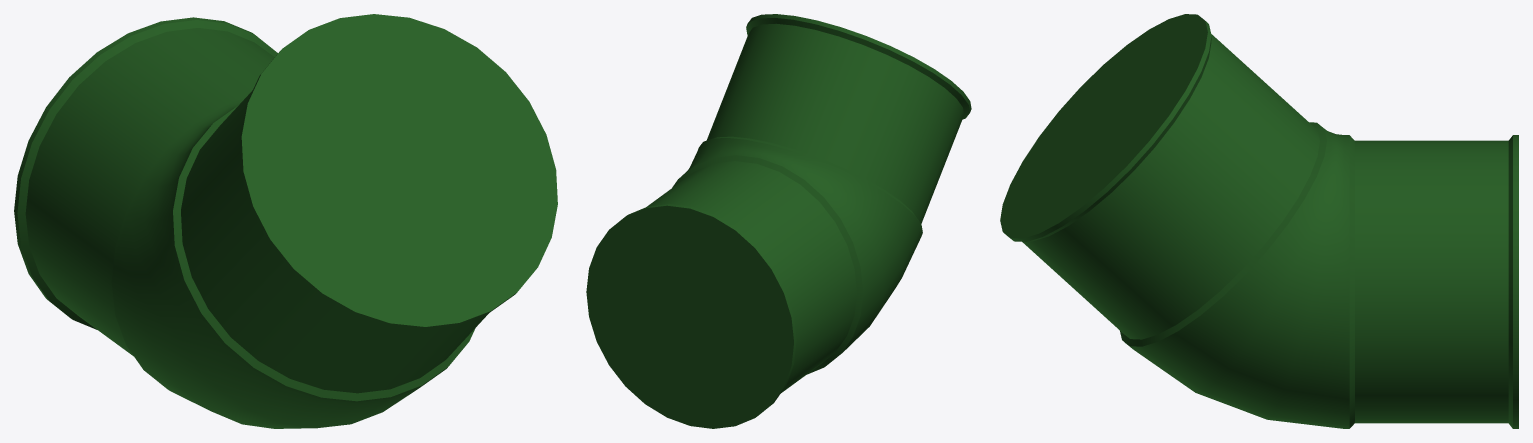
File: Pipe_45-Degree_16cm.fbx
3 renders of one model, left to right at view 1: azimuth 30°, elevation 25°; view 2: azimuth 150°, elevation 25°; view 3: azimuth 270°, elevation 25°, orthographic. The views are drawn at different scales.
Parts seen in each view (by area): view 1: Pipe_45-Degree_16cm; view 2: Pipe_45-Degree_16cm; view 3: Pipe_45-Degree_16cm.
Part boxes in pixels (x1,y1,x2,y2): Pipe_45-Degree_16cm: (14,14,557,428); Pipe_45-Degree_16cm: (586,14,971,428); Pipe_45-Degree_16cm: (1000,14,1518,428).
Size of the model in its own units: 16 by 23.01 by 28.24.
